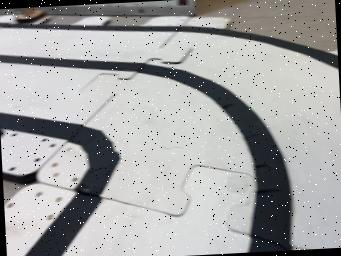street: (0, 26, 341, 256), (0, 26, 341, 256), (0, 26, 341, 256), (0, 26, 341, 256), (0, 26, 341, 256), (0, 26, 341, 256)
